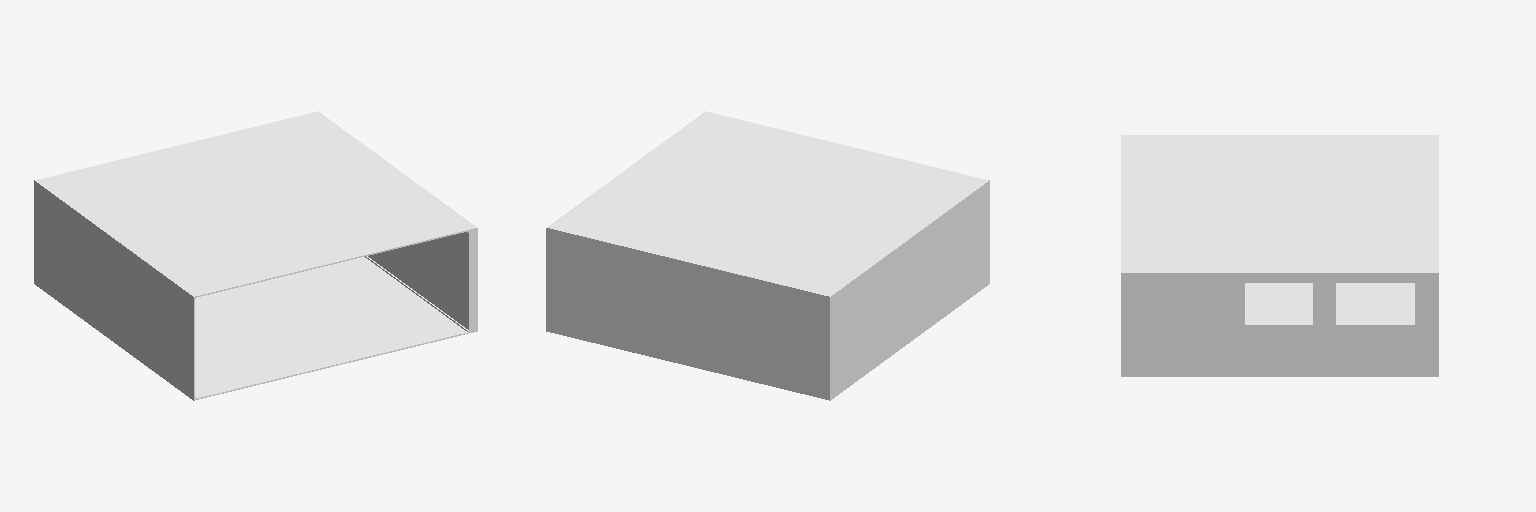
Rendered from empty-classroom.obj.
The picture shows the model from 3 angles: view 1: azimuth 30°, elevation 25°; view 2: azimuth 150°, elevation 25°; view 3: azimuth 270°, elevation 25°; orthographic projection.
Visible parts, largest first — view 1: classroom; view 2: classroom; view 3: classroom.
Boxes of the visible parts, x1=… form: classroom: x1=34, y1=111, x2=477, y2=400; classroom: x1=546, y1=111, x2=989, y2=400; classroom: x1=1121, y1=135, x2=1438, y2=376.
Size of the model in its own units: 20.6 by 7.2 by 20.